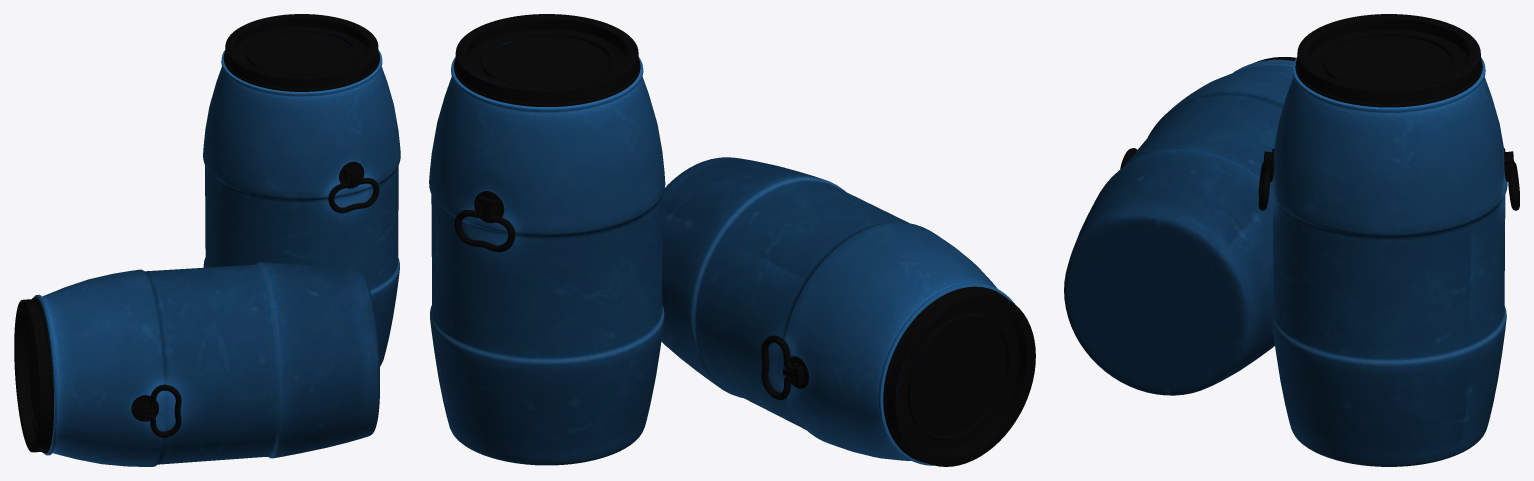
The picture shows the model from 3 angles, left to right: view 1: azimuth 30°, elevation 25°; view 2: azimuth 150°, elevation 25°; view 3: azimuth 270°, elevation 25°; orthographic projection. The views are drawn at different scales.
Parts seen in each view (by area): view 1: Plastic_BarrelB, Plastic_BarrelA; view 2: Plastic_BarrelA, Plastic_BarrelB; view 3: Plastic_BarrelA, Plastic_BarrelB.
Part boxes in pixels (x1,y1,x2,y2): Plastic_BarrelB: (14, 262, 379, 466); Plastic_BarrelA: (203, 14, 400, 366); Plastic_BarrelA: (429, 14, 665, 465); Plastic_BarrelB: (661, 157, 1035, 466); Plastic_BarrelA: (1258, 14, 1519, 466); Plastic_BarrelB: (1064, 57, 1295, 395).
Bounding box in the file's own units: 0.2087 × 0.1499 × 0.1633.
1 material, 1 textured.
